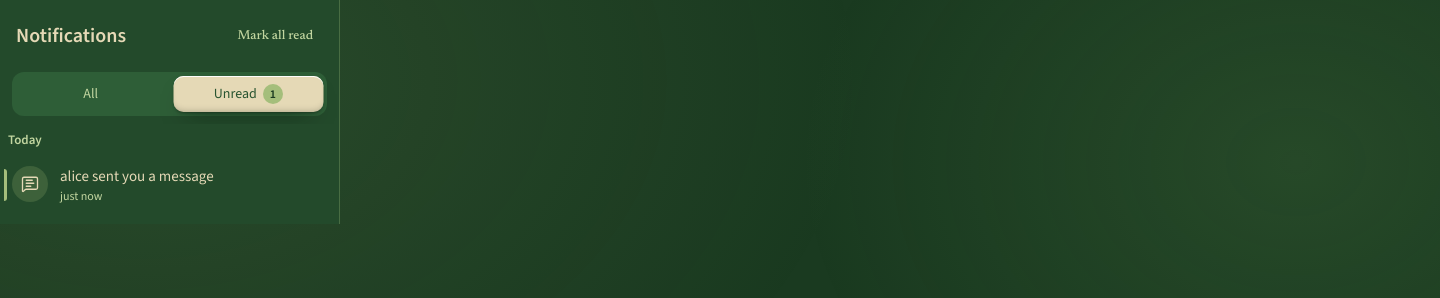
Test: NotificationsPanel › offers the read history on All
Click the tab "All" at {"x": 91, "y": 94}, box [16,76,166,112]
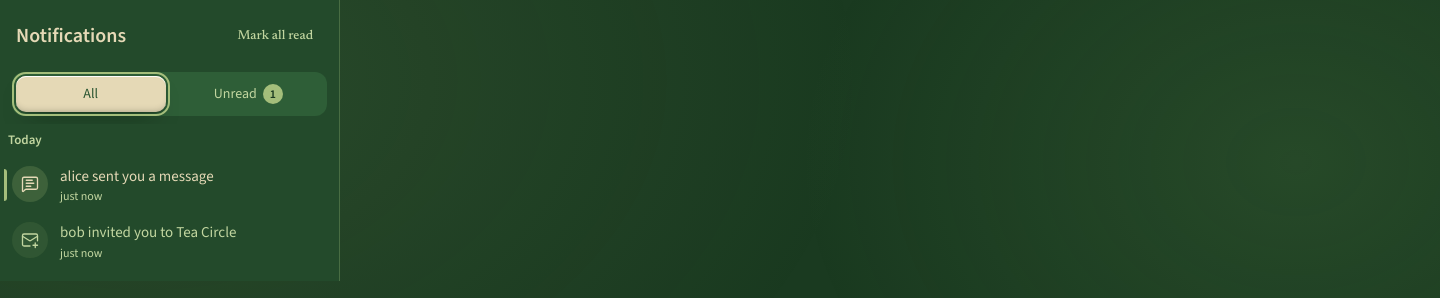
Expected: the text "alice sent you a message" is shown, [60,166,214,186]
Result: the text "bob invited you to Tea Circle" is shown at [60,222,236,242]
